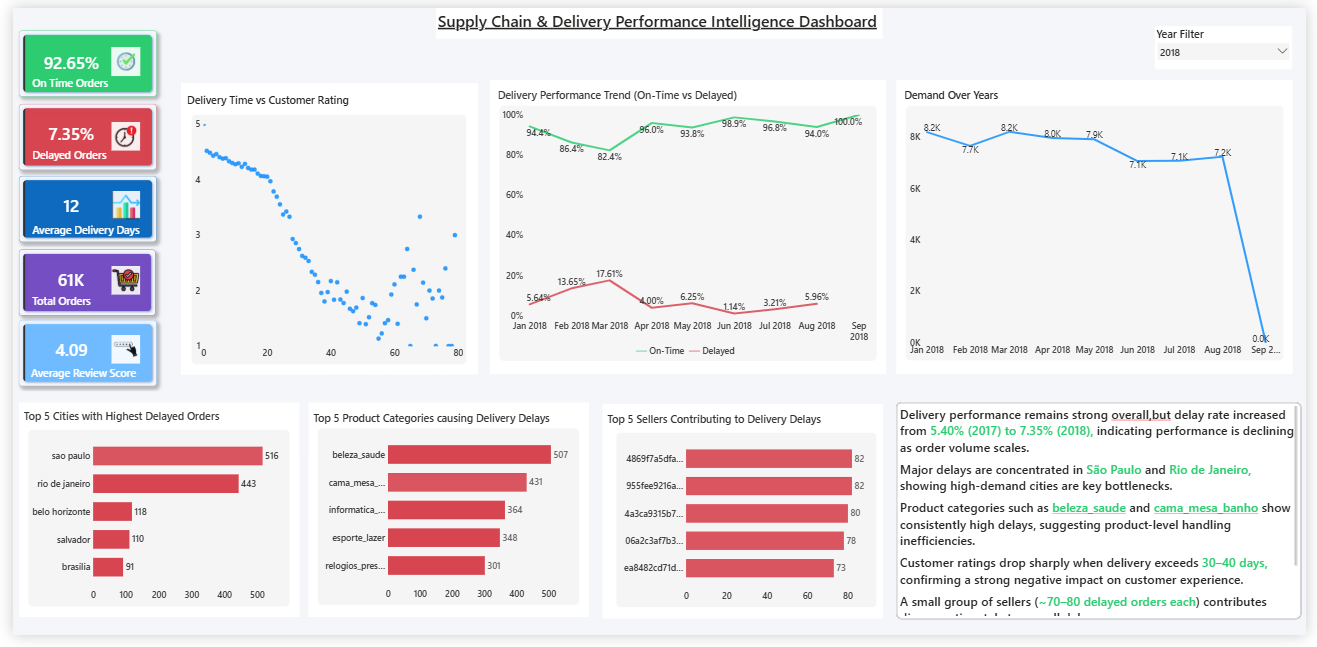

The dashboard page shown, as its layout file describes it:
{"tool":"powerbi","page":{"name":"Overall Analysis","canvas":[2660,2800],"ordinal":0},"visuals":[{"type":"textbox","box":[1445,220,1200,890],"z":0,"group":"g3"},{"type":"textbox","box":[16.7,1196.7,850,650],"z":0,"group":"g7"},{"type":"group","id":"g1","title":"Group 3","box":[1786.7,1200,850,650],"z":0},{"type":"textbox","box":[690,1356.7,10,16.7],"z":0,"group":"g6"},{"type":"textbox","box":[16.7,1886.7,1200,890],"z":0,"group":"g8"},{"type":"cardVisual","title":"Orders On Time","fields":{"Data":["olist_orders_dataset.Total Orders"]},"box":[20,733.3,413.3,200],"z":1000},{"type":"textbox","box":[896.7,1196.7,850,650],"z":1000,"group":"g2"},{"type":"textbox","box":[510,226.7,900,883.3],"z":2000,"group":"g5"},{"type":"cardVisual","title":"Orders On Time","fields":{"Data":["olist_orders_dataset.Average Delivery Days"]},"box":[20,510,416.7,200],"z":2000},{"type":"textbox","box":[1786.7,1200,850,650],"z":2000,"group":"g1"},{"type":"textbox","box":[516.6,251.5,754.7,79],"z":3000,"group":"g5"},{"type":"cardVisual","title":"Orders On Time","fields":{"Data":["olist_order_reviews_dataset.Average Review Score"]},"box":[20,946.7,416.7,200],"z":3000},{"type":"barChart","fields":{"Category":["olist_products_dataset.product_category_name"],"Y":["olist_orders_dataset.Delayed Orders"]},"box":[924.5,1274.5,793.3,536.7],"z":3000,"group":"g2"},{"type":"cardVisual","title":"Orders On Time","fields":{"Data":["olist_orders_dataset.Delayed %"]},"box":[20,290,416.7,200],"z":4000},{"type":"scatterChart","fields":{"X":["olist_orders_dataset.Delivery days"],"Y":["olist_order_reviews_dataset.review_score"]},"box":[541.4,321.2,834.2,757.8],"z":4000,"group":"g5"},{"type":"textbox","box":[906.2,1214.5,812.7,74.5],"z":4000,"group":"g2"},{"type":"barChart","fields":{"Y":["olist_orders_dataset.Delayed Orders"],"Category":["olist_customers_dataset.customer_city"]},"box":[42.1,1280.6,793,537],"z":4000,"group":"g7"},{"type":"barChart","fields":{"Y":["olist_orders_dataset.Delayed Orders"],"Category":["olist_customers_dataset.customer_city"]},"box":[690.3,1358.9,9.4,13.8],"z":4000,"group":"g6"},{"type":"textbox","box":[653.3,0,1353.3,93.3],"z":5000},{"type":"textbox","box":[1797.8,1220,666.7,60],"z":5000,"group":"g1"},{"type":"textbox","box":[31.8,165.4,208.4,39.8],"z":6000},{"type":"barChart","fields":{"Y":["olist_orders_dataset.Delayed Orders"],"Category":["olist_sellers_dataset.seller_id"]},"box":[1825,1285,790,530],"z":7000},{"type":"textbox","box":[16.7,420,286.7,70],"z":8000},{"type":"textbox","box":[16.7,643.3,413.3,66.7],"z":9000},{"type":"textbox","box":[16.7,860,246.7,56.7],"z":10000},{"type":"textbox","box":[27.8,1211.1,666.7,60],"z":10000,"group":"g7"},{"type":"textbox","box":[690.1,1357.4,7.9,1.5],"z":10000,"group":"g6"},{"type":"textbox","box":[33.3,1076.7,383.3,63.3],"z":11000},{"type":"slicer","title":"Year Filter","fields":{"Values":["olist_orders_dataset.order_purchase_date.Variation.Date Hierarchy.Year","olist_orders_dataset.order_purchase_date.Variation.Date Hierarchy.Month"]},"box":[2186.7,63.3,450,130],"z":12000},{"type":"lineChart","fields":{"Y":["olist_orders_dataset.On-Time %","olist_orders_dataset.Delayed %"],"Category":["olist_orders_dataset.order_purchase_date.Variation.Date Hierarchy.Year","olist_orders_dataset.order_purchase_date.Variation.Date Hierarchy.Month"]},"box":[1472.3,295.4,1145.5,774.7],"z":12000,"group":"g3"},{"type":"lineChart","fields":{"Y":["olist_orders_dataset.Total Orders"],"Category":["olist_orders_dataset.order_purchase_date.Variation.Date Hierarchy.Year","olist_orders_dataset.order_purchase_date.Variation.Date Hierarchy.Month"]},"box":[44.5,1964.5,1146.7,773.3],"z":12000,"group":"g8"},{"type":"textbox","box":[1461.3,236.2,767.9,69.9],"z":13000,"group":"g3"},{"type":"image","box":[280,346.7,120,86.7],"z":13000},{"type":"textbox","box":[33,1902.9,767.9,69.9],"z":13000,"group":"g8"},{"type":"cardVisual","title":"Orders On Time","fields":{"Data":["olist_orders_dataset.On-Time %"]},"box":[16.7,66.7,416.7,200],"z":14000,"group":"g4"},{"type":"image","box":[280,990,120,86.7],"z":14000},{"type":"textbox","box":[17.8,197.8,396.7,56.7],"z":15000,"group":"g4"},{"type":"image","box":[280,556.7,120,86.7],"z":15000},{"type":"image","box":[280.8,117.9,120,88.3],"z":16000,"group":"g4"},{"type":"image","box":[280,783.3,120,86.7],"z":16000},{"type":"group","id":"g2","title":"Group 2","box":[896.7,1196.7,850,650],"z":17000},{"type":"group","id":"g3","title":"Group 1","box":[1445,220,1200,890],"z":18000},{"type":"group","id":"g4","title":"Group 4","box":[16.7,66.7,416.7,200],"z":19000},{"type":"group","id":"g5","title":"Group 4","box":[510,226.7,900,883.3],"z":20000},{"type":"group","id":"g6","title":"Group 5","box":[690,1356.7,10,16.7],"z":21000},{"type":"group","id":"g7","title":"Group 5","box":[16.7,1196.7,850,650],"z":22000},{"type":"group","id":"g8","title":"Group 1","box":[16.7,1886.7,1200,890],"z":23000},{"type":"textbox","box":[1276.7,1963.3,1340,773.3],"z":24000}]}

Visuals, with their boxes on the page's 2660x2800 design canvas (x1, y1, x2, y2). These are canvas units, not pixel positions in the 1317x647 screenshot, which may show the page scaled, cropped or inside an application window:
textbox: <bbox>1445, 220, 2645, 1110</bbox>
textbox: <bbox>17, 1197, 867, 1847</bbox>
"Group 3" group: <bbox>1787, 1200, 2637, 1850</bbox>
textbox: <bbox>690, 1357, 700, 1373</bbox>
textbox: <bbox>17, 1887, 1217, 2777</bbox>
"Orders On Time" cardVisual: <bbox>20, 733, 433, 933</bbox>
textbox: <bbox>897, 1197, 1747, 1847</bbox>
textbox: <bbox>510, 227, 1410, 1110</bbox>
"Orders On Time" cardVisual: <bbox>20, 510, 437, 710</bbox>
textbox: <bbox>1787, 1200, 2637, 1850</bbox>
textbox: <bbox>517, 252, 1271, 330</bbox>
"Orders On Time" cardVisual: <bbox>20, 947, 437, 1147</bbox>
barChart - olist_products_dataset.product_category_name x olist_orders_dataset.Delayed Orders: <bbox>924, 1274, 1718, 1811</bbox>
"Orders On Time" cardVisual: <bbox>20, 290, 437, 490</bbox>
scatterChart - olist_orders_dataset.Delivery days x olist_order_reviews_dataset.review_score: <bbox>541, 321, 1376, 1079</bbox>
textbox: <bbox>906, 1214, 1719, 1289</bbox>
barChart - olist_orders_dataset.Delayed Orders x olist_customers_dataset.customer_city: <bbox>42, 1281, 835, 1818</bbox>
barChart - olist_orders_dataset.Delayed Orders x olist_customers_dataset.customer_city: <bbox>690, 1359, 700, 1373</bbox>
textbox: <bbox>653, 0, 2007, 93</bbox>
textbox: <bbox>1798, 1220, 2464, 1280</bbox>
textbox: <bbox>32, 165, 240, 205</bbox>
barChart - olist_orders_dataset.Delayed Orders x olist_sellers_dataset.seller_id: <bbox>1825, 1285, 2615, 1815</bbox>
textbox: <bbox>17, 420, 303, 490</bbox>
textbox: <bbox>17, 643, 430, 710</bbox>
textbox: <bbox>17, 860, 263, 917</bbox>
textbox: <bbox>28, 1211, 694, 1271</bbox>
textbox: <bbox>690, 1357, 698, 1359</bbox>
textbox: <bbox>33, 1077, 417, 1140</bbox>
"Year Filter" slicer: <bbox>2187, 63, 2637, 193</bbox>
lineChart - olist_orders_dataset.On-Time % x olist_orders_dataset.Delayed %: <bbox>1472, 295, 2618, 1070</bbox>
lineChart - olist_orders_dataset.Total Orders x olist_orders_dataset.order_purchase_date.Variation.Date Hierarchy.Year: <bbox>44, 1964, 1191, 2738</bbox>
textbox: <bbox>1461, 236, 2229, 306</bbox>
image: <bbox>280, 347, 400, 433</bbox>
textbox: <bbox>33, 1903, 801, 1973</bbox>
"Orders On Time" cardVisual: <bbox>17, 67, 433, 267</bbox>
image: <bbox>280, 990, 400, 1077</bbox>
textbox: <bbox>18, 198, 414, 254</bbox>
image: <bbox>280, 557, 400, 643</bbox>
image: <bbox>281, 118, 401, 206</bbox>
image: <bbox>280, 783, 400, 870</bbox>
"Group 2" group: <bbox>897, 1197, 1747, 1847</bbox>
"Group 1" group: <bbox>1445, 220, 2645, 1110</bbox>
"Group 4" group: <bbox>17, 67, 433, 267</bbox>
"Group 4" group: <bbox>510, 227, 1410, 1110</bbox>
"Group 5" group: <bbox>690, 1357, 700, 1373</bbox>
"Group 5" group: <bbox>17, 1197, 867, 1847</bbox>
"Group 1" group: <bbox>17, 1887, 1217, 2777</bbox>
textbox: <bbox>1277, 1963, 2617, 2737</bbox>
